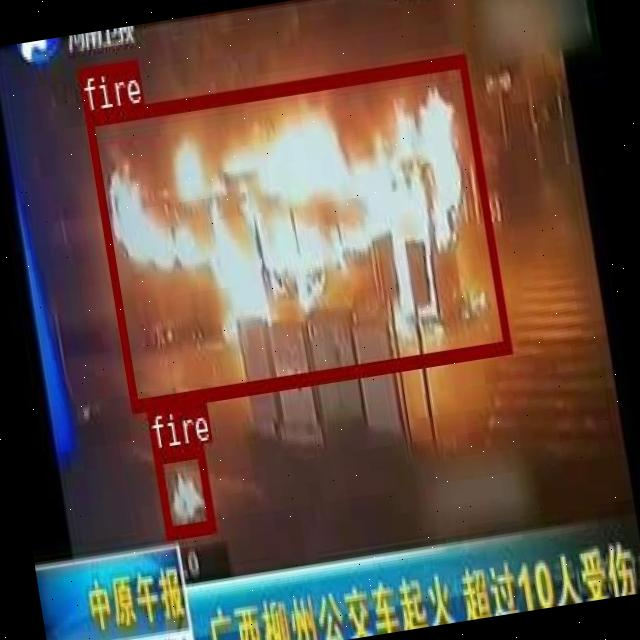fire: (85, 53, 511, 410), (153, 442, 215, 538)
